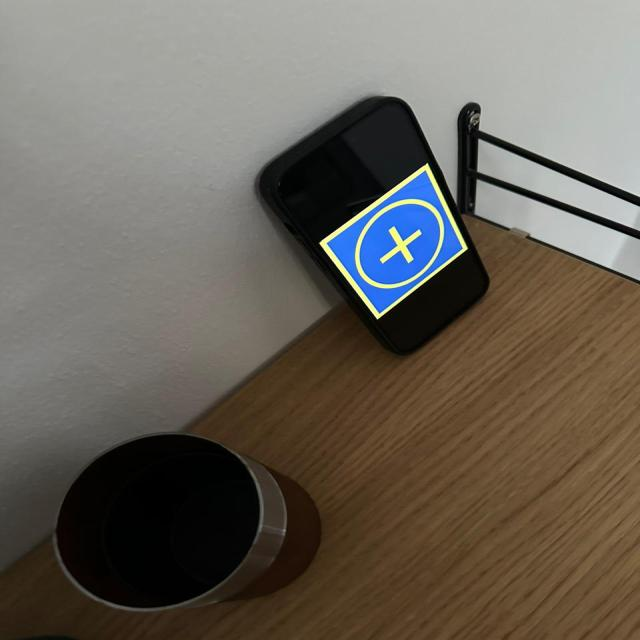Marker: (312, 149, 482, 330)
